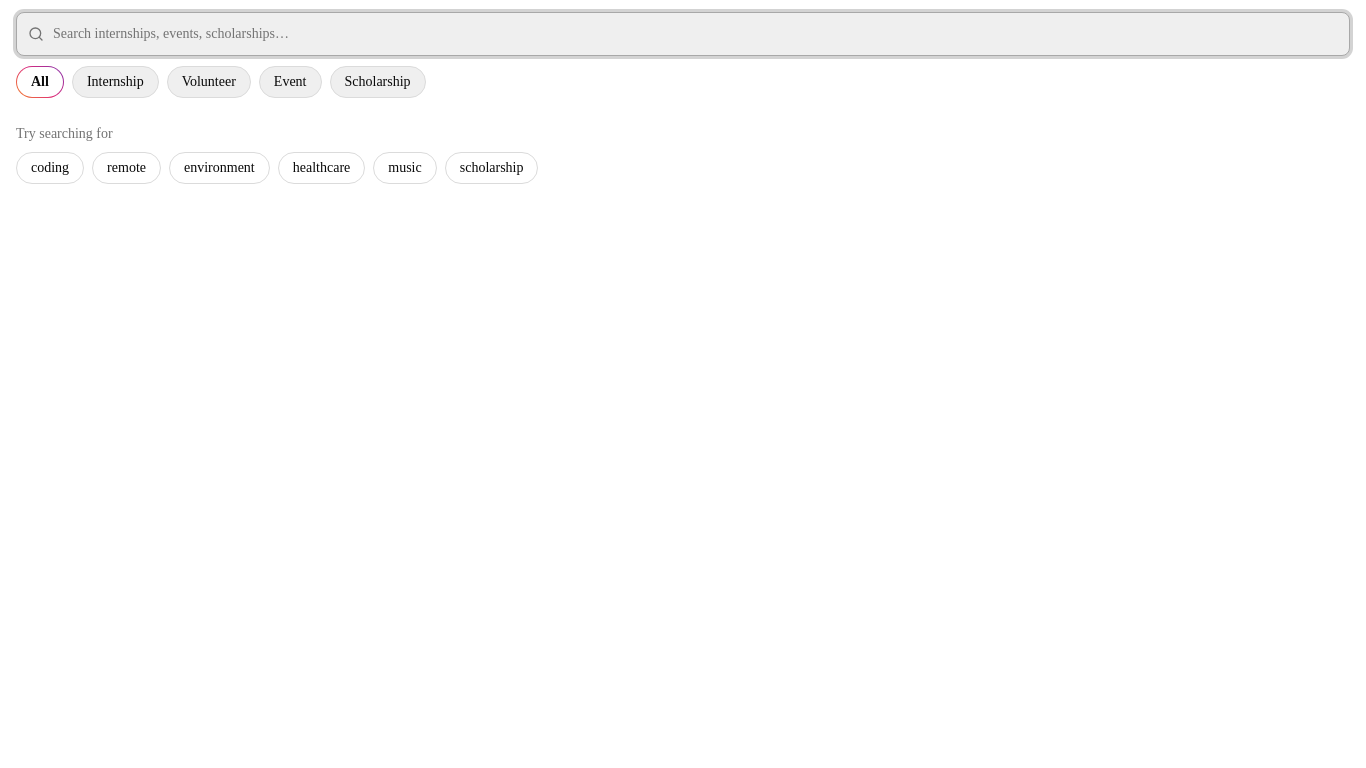
Scenario: search › matches tags and narrows by type
The image size is (1366, 768).
Step 1. Type "coding" into the search field named "Search opportunities" → (683, 34), box [16,12,1350,56]
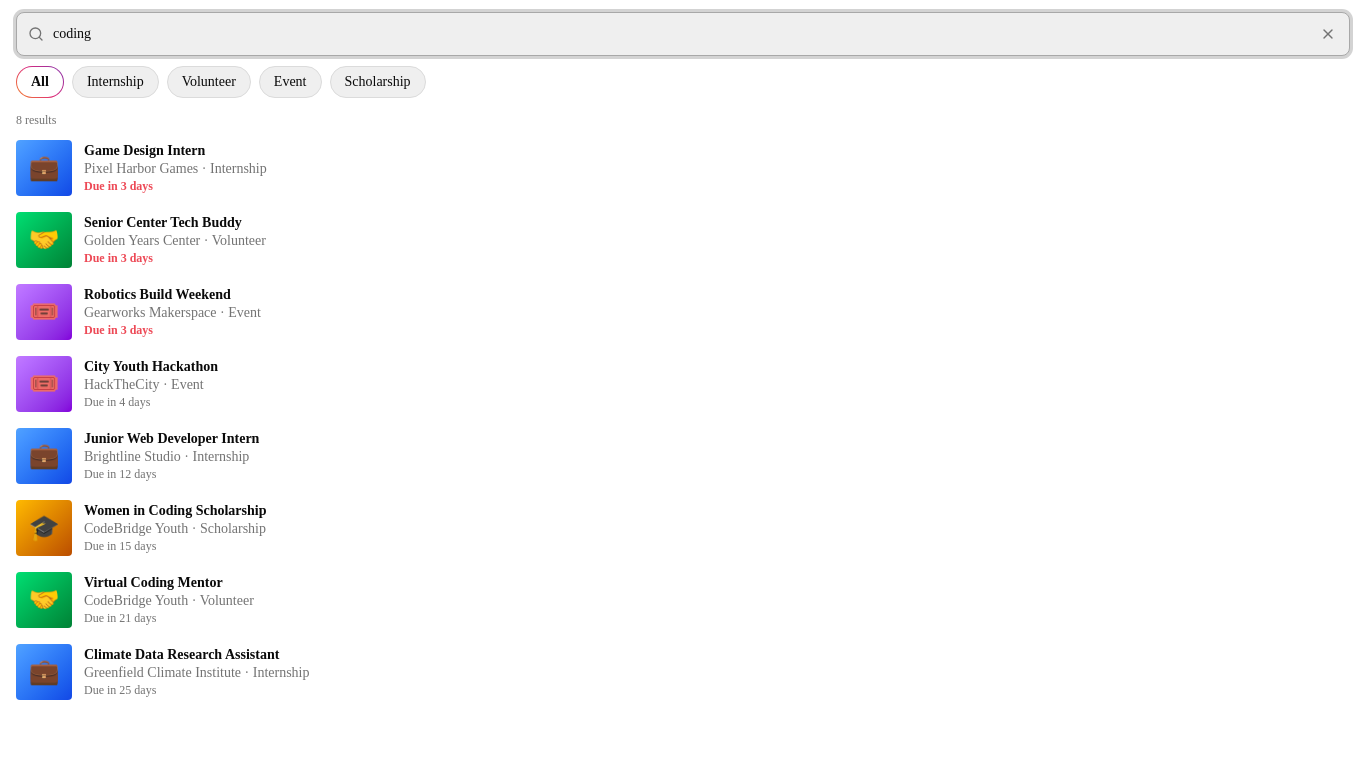
Result: the text "City Youth Hackathon" is shown at [84,359,218,374]
Step 2. Click the radio button labelled "Internship" → (115, 82), box [72,66,159,98]
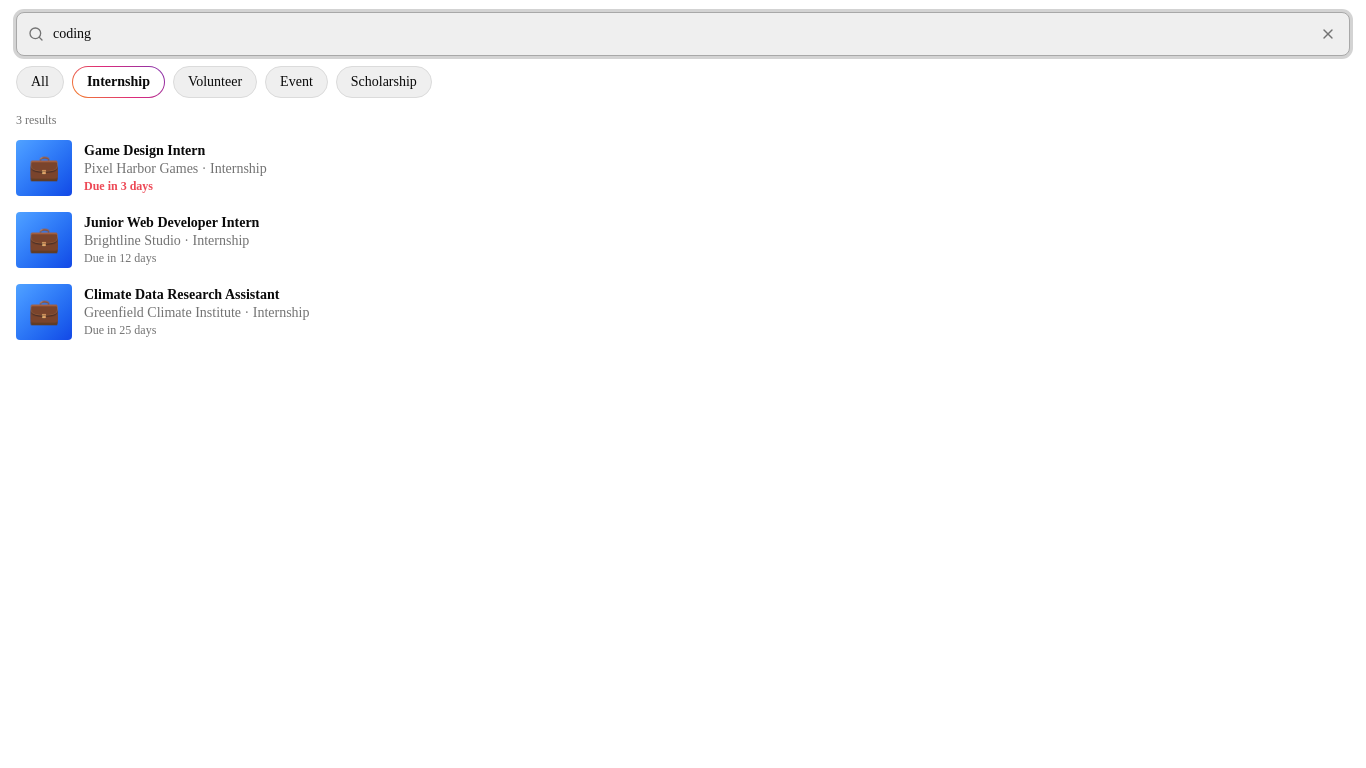
Result: the text "Junior Web Developer Intern" is shown at [84,215,259,230]
Result: the link "City Youth Hackathon" is gone
